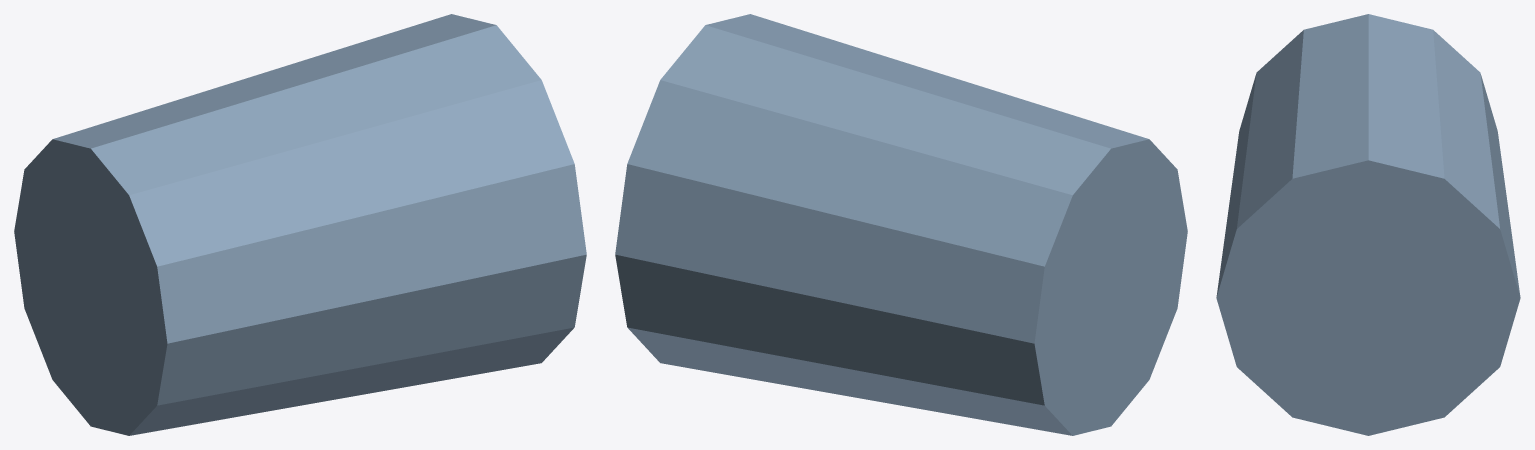
File: bone_23.obj
3 renders of one model, left to right at view 1: azimuth 30°, elevation 25°; view 2: azimuth 150°, elevation 25°; view 3: azimuth 270°, elevation 25°, orthographic. The views are drawn at different scales.
Visible parts, largest first — view 1: bone_23; view 2: bone_23; view 3: bone_23.
Part boxes in pixels (x1=…): bone_23: x1=14, y1=14, x2=586, y2=435; bone_23: x1=615, y1=14, x2=1187, y2=435; bone_23: x1=1216, y1=14, x2=1520, y2=435.
Size of the model in its own units: 0.0182 by 0.014 by 0.014.
